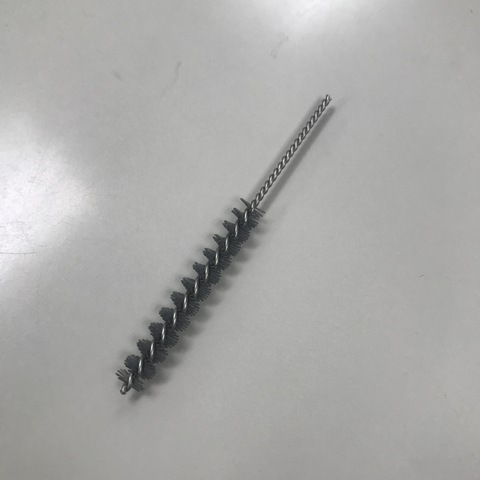Twist Brush-A: (115, 90, 335, 397)
